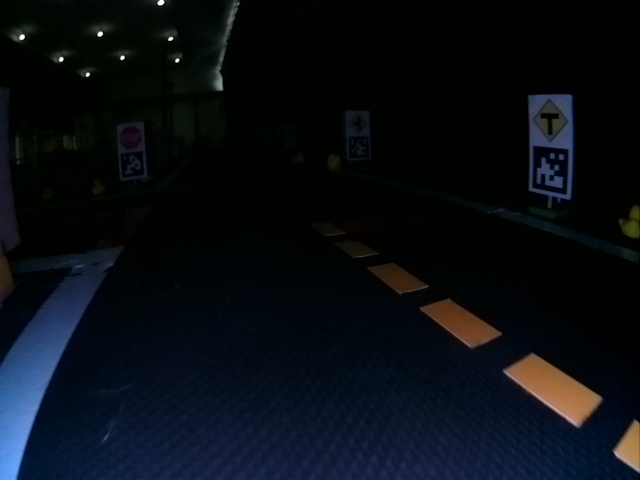Duckie: (620, 206, 639, 237), (327, 154, 339, 168), (94, 179, 104, 192)
Intersection sign: (532, 98, 570, 141), (348, 113, 367, 131)
QR code: (532, 145, 572, 196), (119, 153, 146, 178), (349, 137, 369, 159)
Stop sign: (118, 125, 144, 148)
